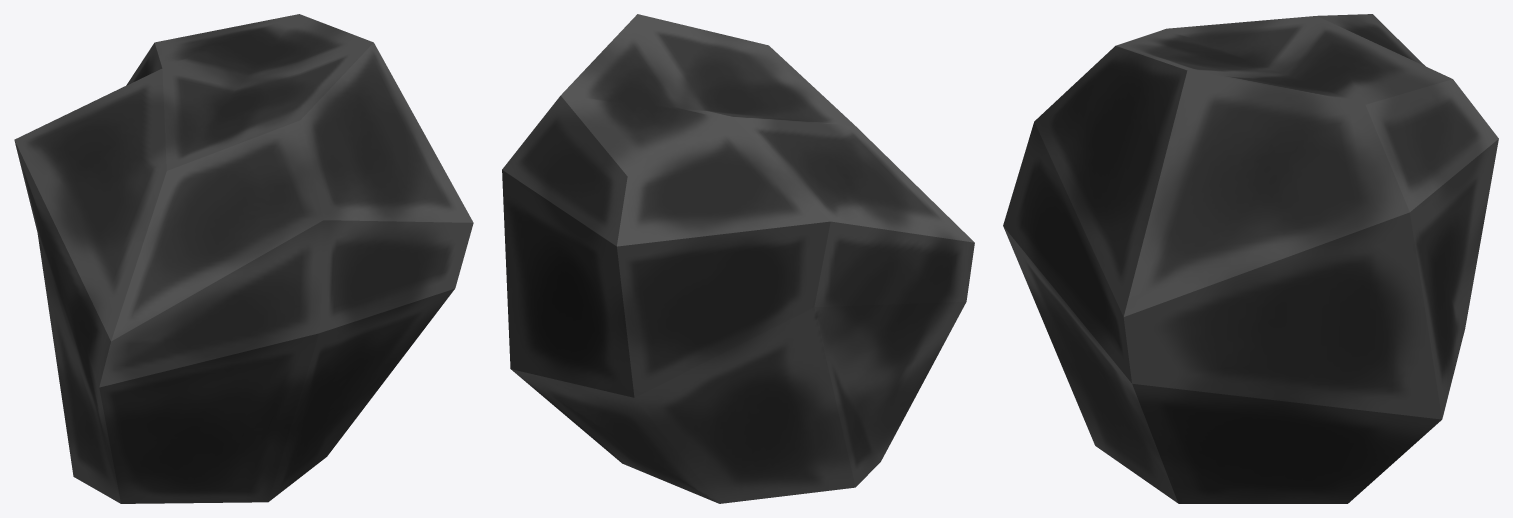
File: rock2.fbx
The picture shows the model from 3 angles, left to right: view 1: azimuth 30°, elevation 25°; view 2: azimuth 150°, elevation 25°; view 3: azimuth 270°, elevation 25°; orthographic projection. The views are drawn at different scales.
Visible parts, largest first — view 1: Rock.001; view 2: Rock.001; view 3: Rock.001.
Boxes of the visible parts, x1,y1,x2,y2 form: Rock.001: [14, 14, 473, 503]; Rock.001: [502, 14, 974, 503]; Rock.001: [1003, 14, 1498, 503].
Size of the model in its own units: 160 by 161 by 156.
Materials: 1 (1 with a texture image).
